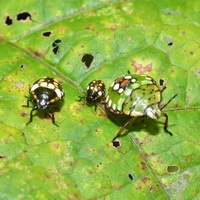insect: (86, 71, 176, 146), (87, 74, 176, 146), (23, 77, 64, 125)
